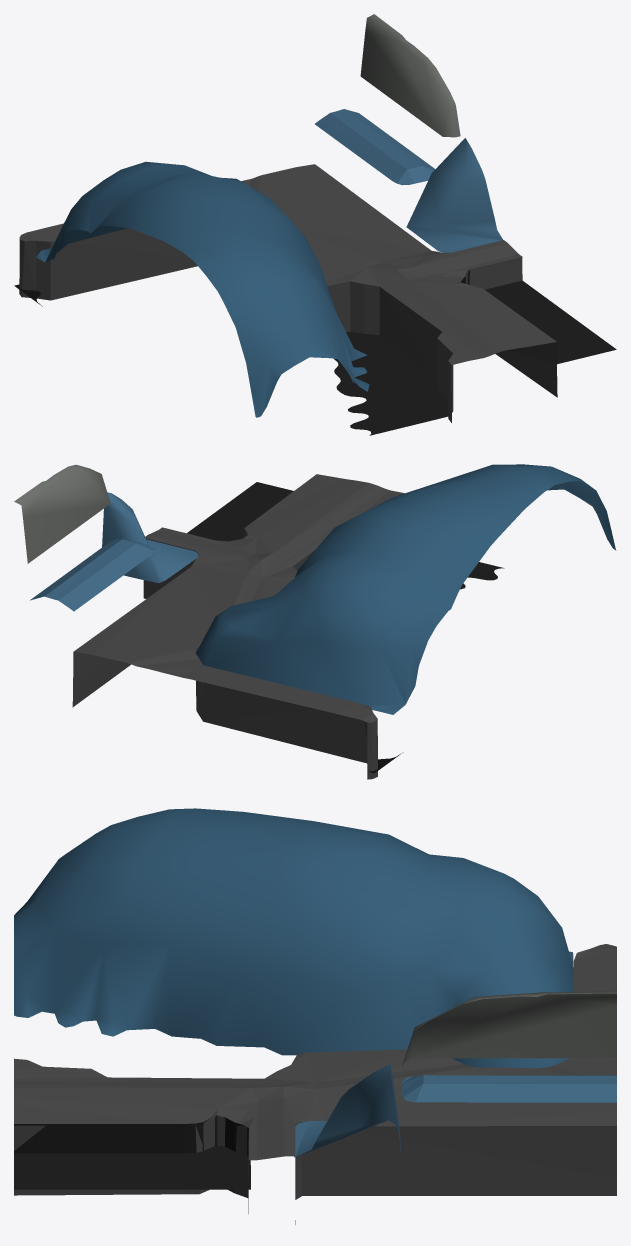
The model's file is newsho-49.glb.
3 views of the same model, one above another, from view 1: azimuth 30°, elevation 25°; view 2: azimuth 150°, elevation 25°; view 3: azimuth 270°, elevation 25° (orthographic). The views are drawn at different scales.
Parts seen in each view (by area): view 1: newsho-49; view 2: newsho-49; view 3: newsho-49.
Part boxes in pixels (x1,y1,x2,y2): newsho-49: [14, 14, 616, 435]; newsho-49: [14, 464, 616, 779]; newsho-49: [14, 808, 616, 1224].
Bounding box in the file's own units: 2 × 1.02 × 2.33.
